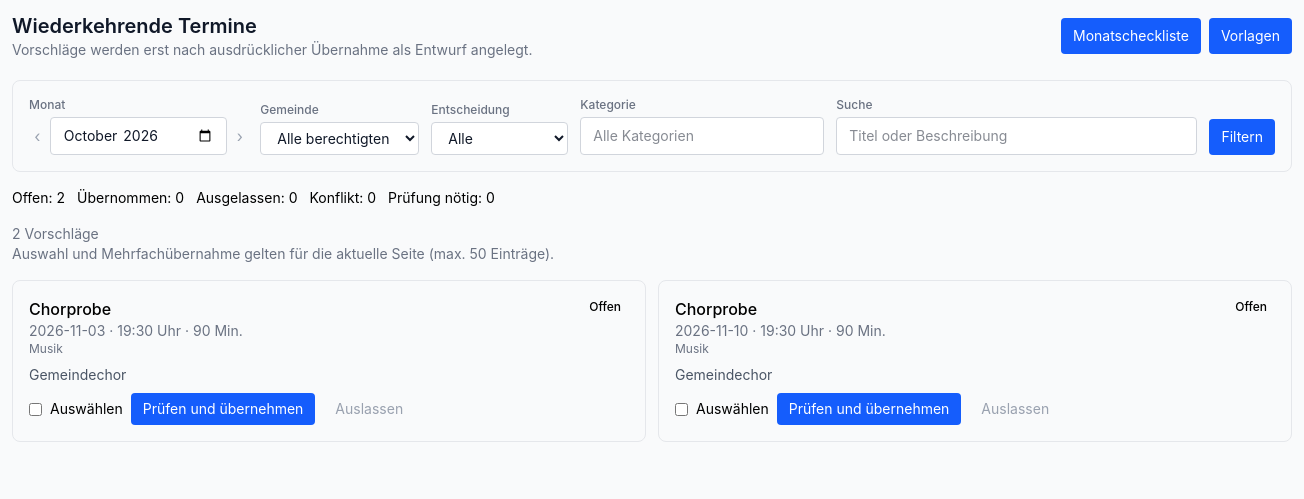
Test: recurring monthly checklist › refreshes successful bulk items while preserving failed selection and error
Step 1. Click the checkbox labelled "Auswählen" below "2026-11-03 · 19:30 Uhr · 90 Min." → (36, 409), box [29, 402, 42, 416]
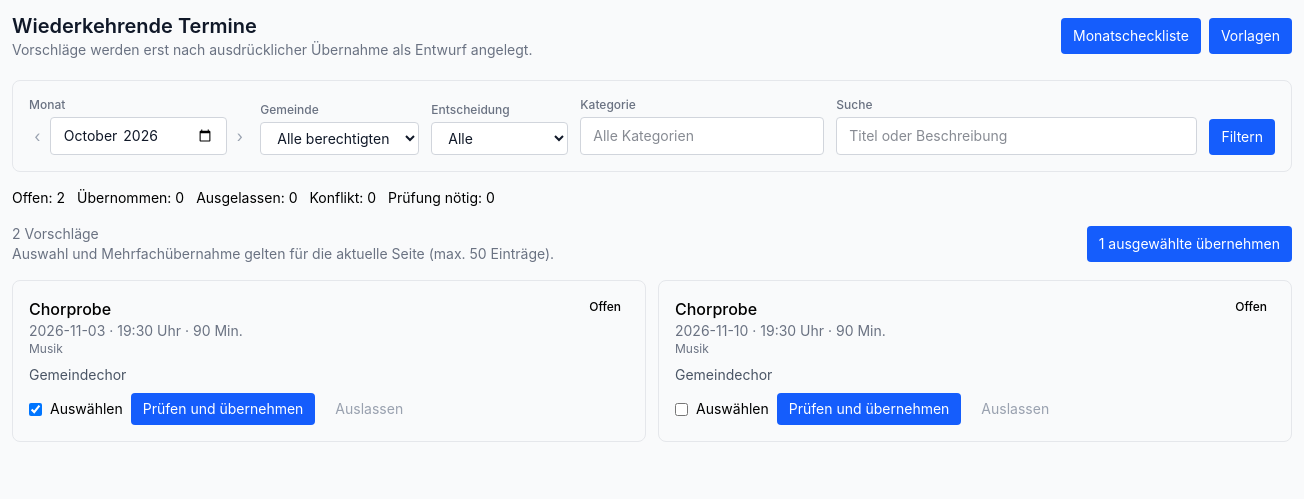
Step 2. Click the checkbox labelled "Auswählen" below "2026-11-10 · 19:30 Uhr · 90 Min." → (682, 409), box [675, 402, 688, 416]
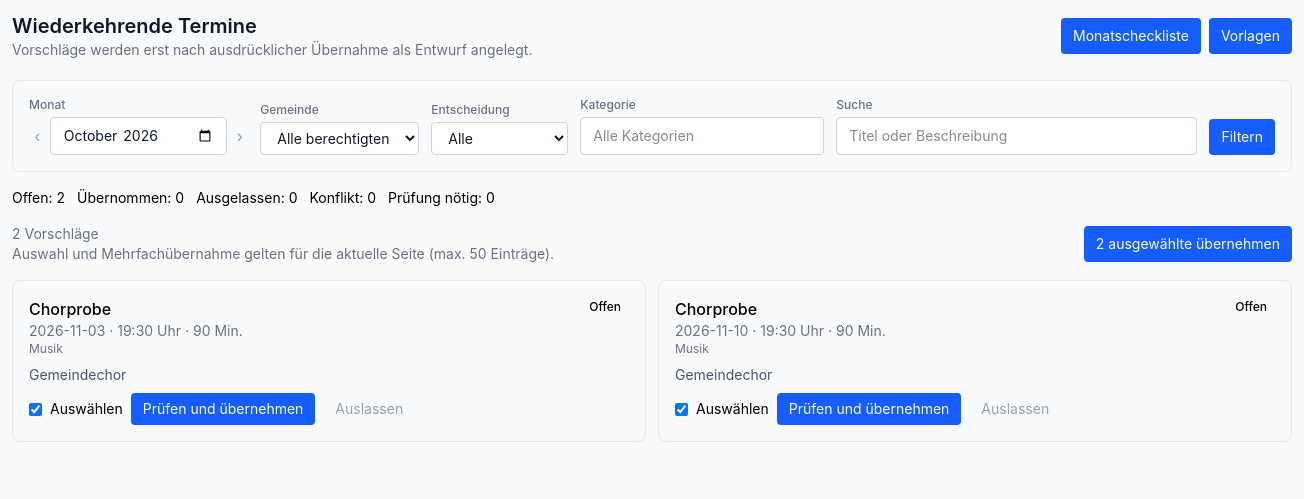
Step 3. Click the button "2 ausgewählte übernehmen" → (1188, 244), box [1084, 226, 1292, 262]
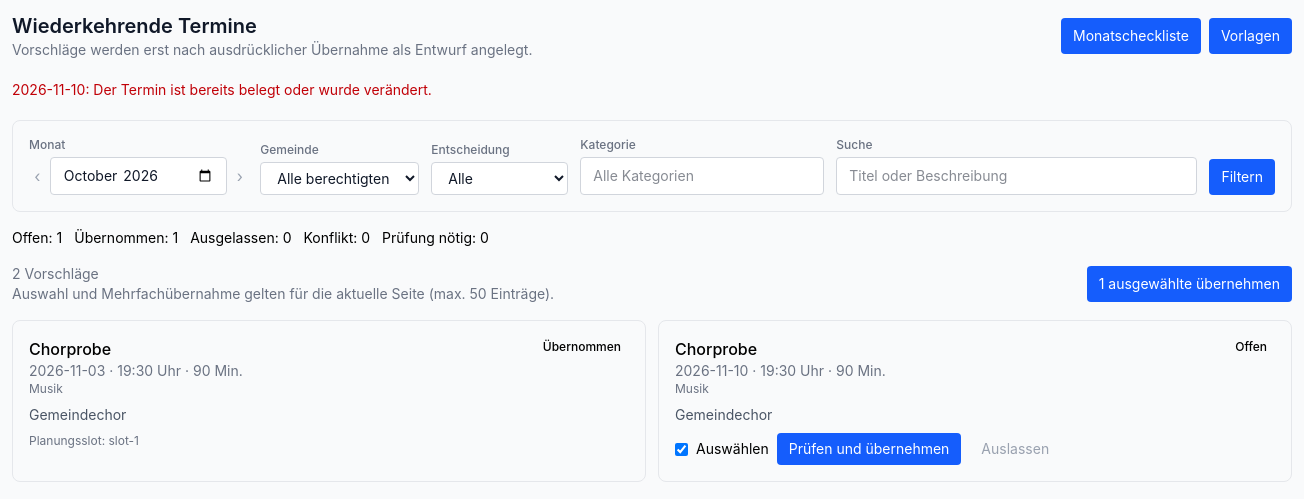
Check: the checkbox named "Chorprobe auswählen" is checked, box [675, 442, 688, 456]
Check: the message "2026-11-10: Der Termin ist bereits belegt oder wurde verändert." is shown, box [12, 81, 432, 98]
Check: the element with test id "occurrence-2026-11-03" shows "Übernommen", box [543, 339, 621, 354]
